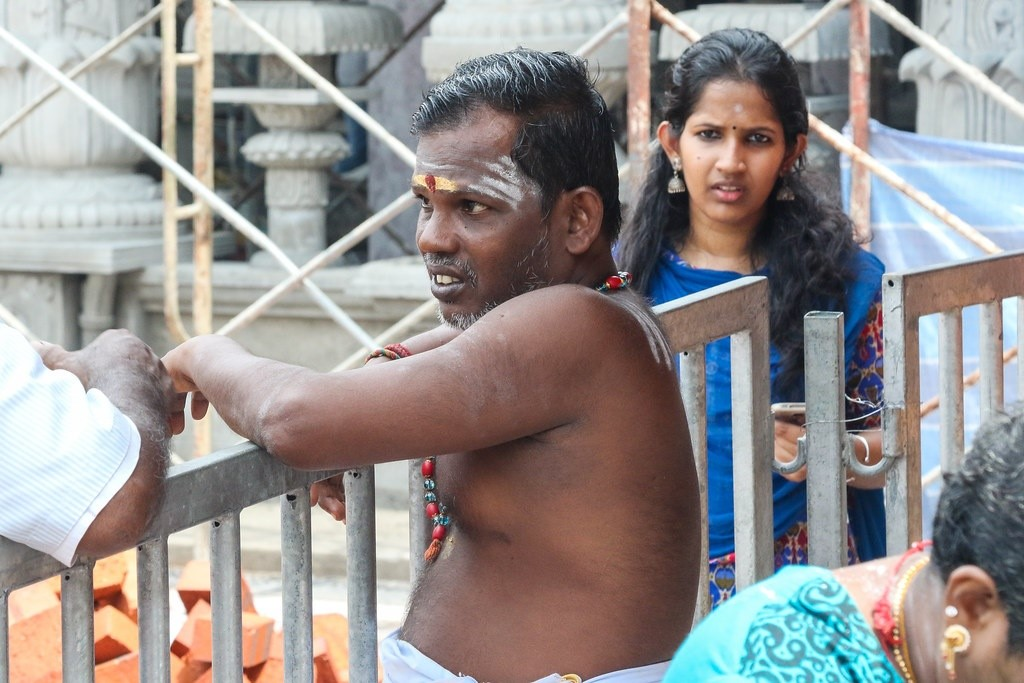face_no_mask: (409, 75, 577, 328), (664, 46, 799, 220)
